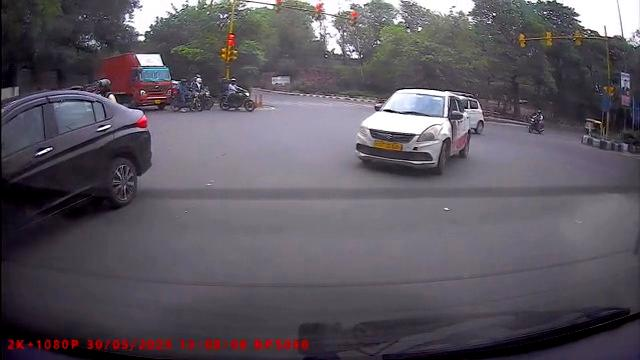motorcycle_with_helmet: (218, 77, 256, 111), (169, 78, 204, 112), (528, 107, 545, 135)
